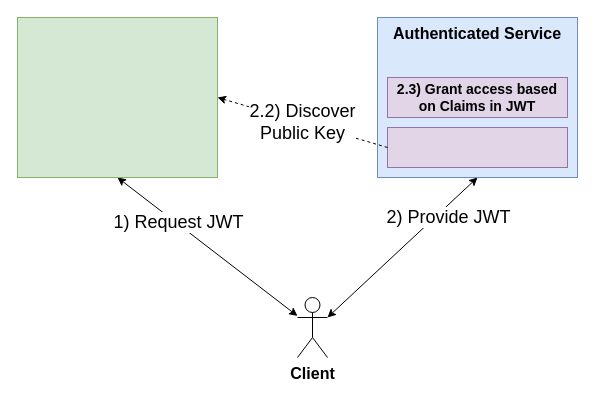
This 595x401 diagram has some shape labels left out. The centre of each missing label's shape, as x and y in pixels:
"2.1) Validate JWT" belongs at (x=477, y=147).
"Token Issuer" belongs at (x=117, y=97).
